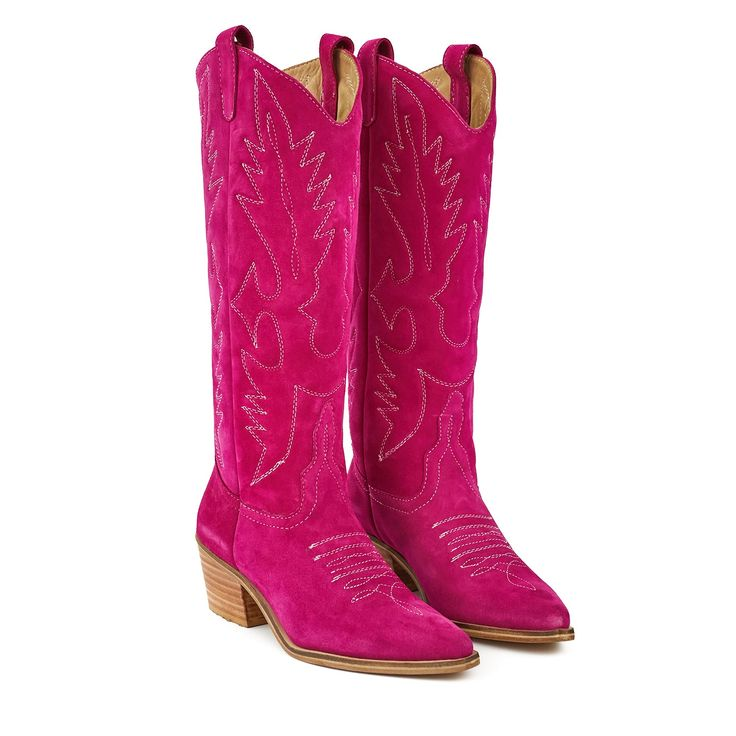gamuza: (195, 25, 570, 661)
